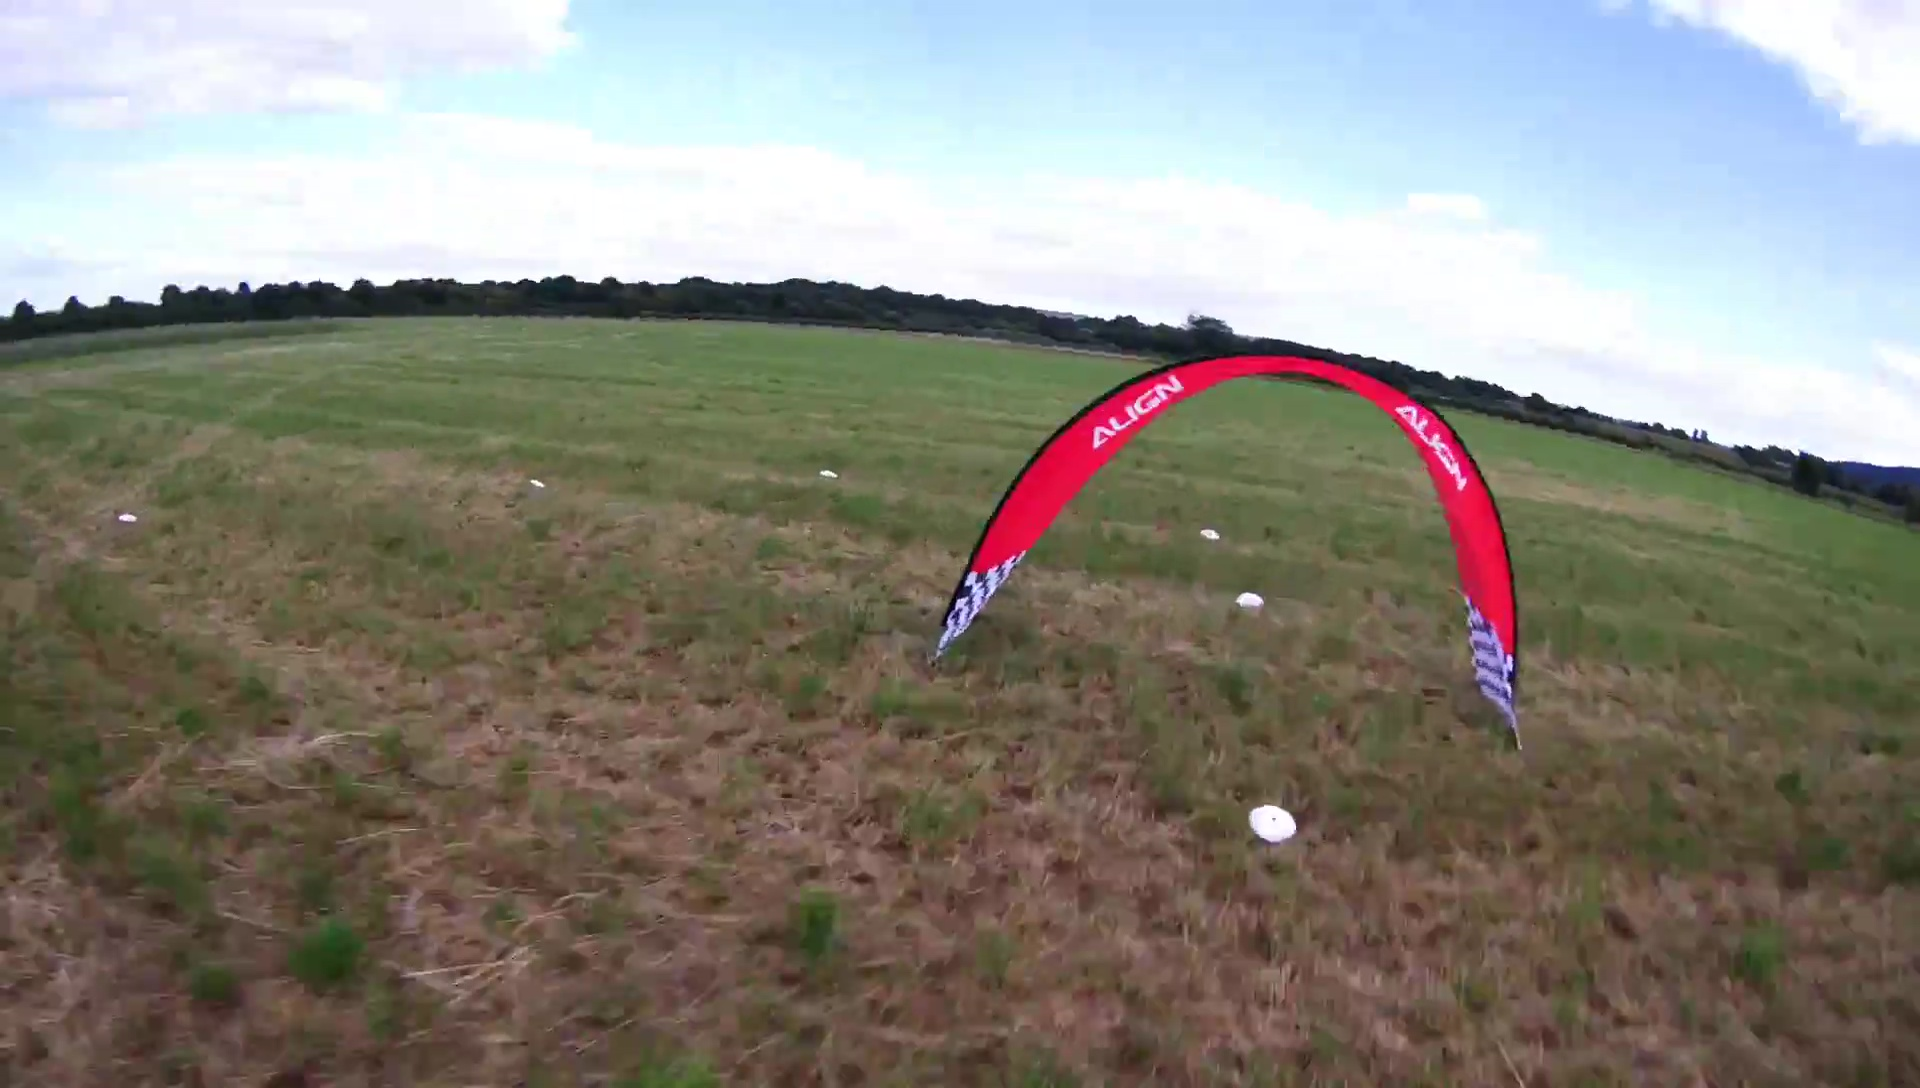gate: (924, 349, 1528, 752)
